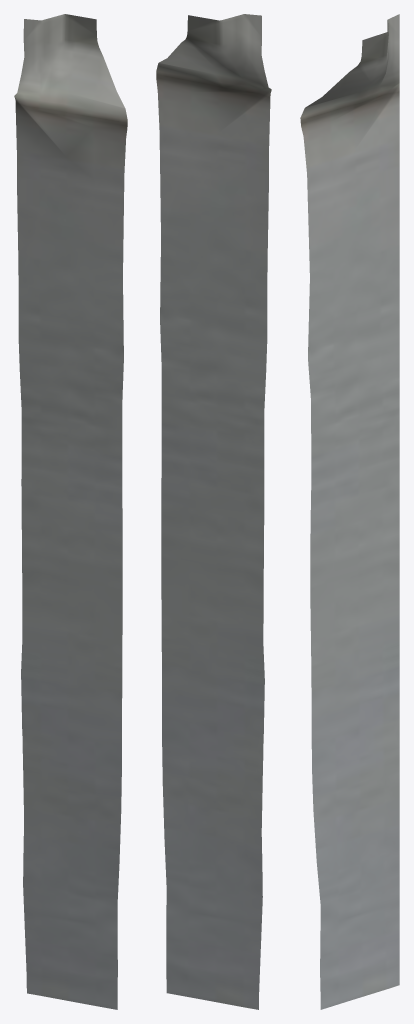
The picture shows the model from 3 angles, left to right: view 1: azimuth 30°, elevation 25°; view 2: azimuth 210°, elevation 25°; view 3: azimuth 270°, elevation 25°; orthographic projection. The views are drawn at different scales.
Size of the model in its own units: 0.249 by 3.65 by 0.3379.
1 material, 1 textured.
